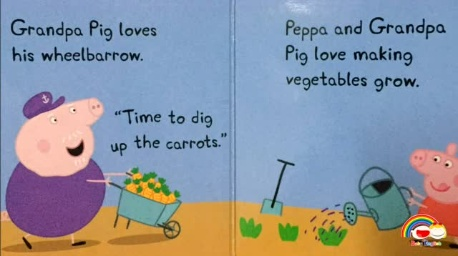Peppa: (407, 145, 458, 235)
